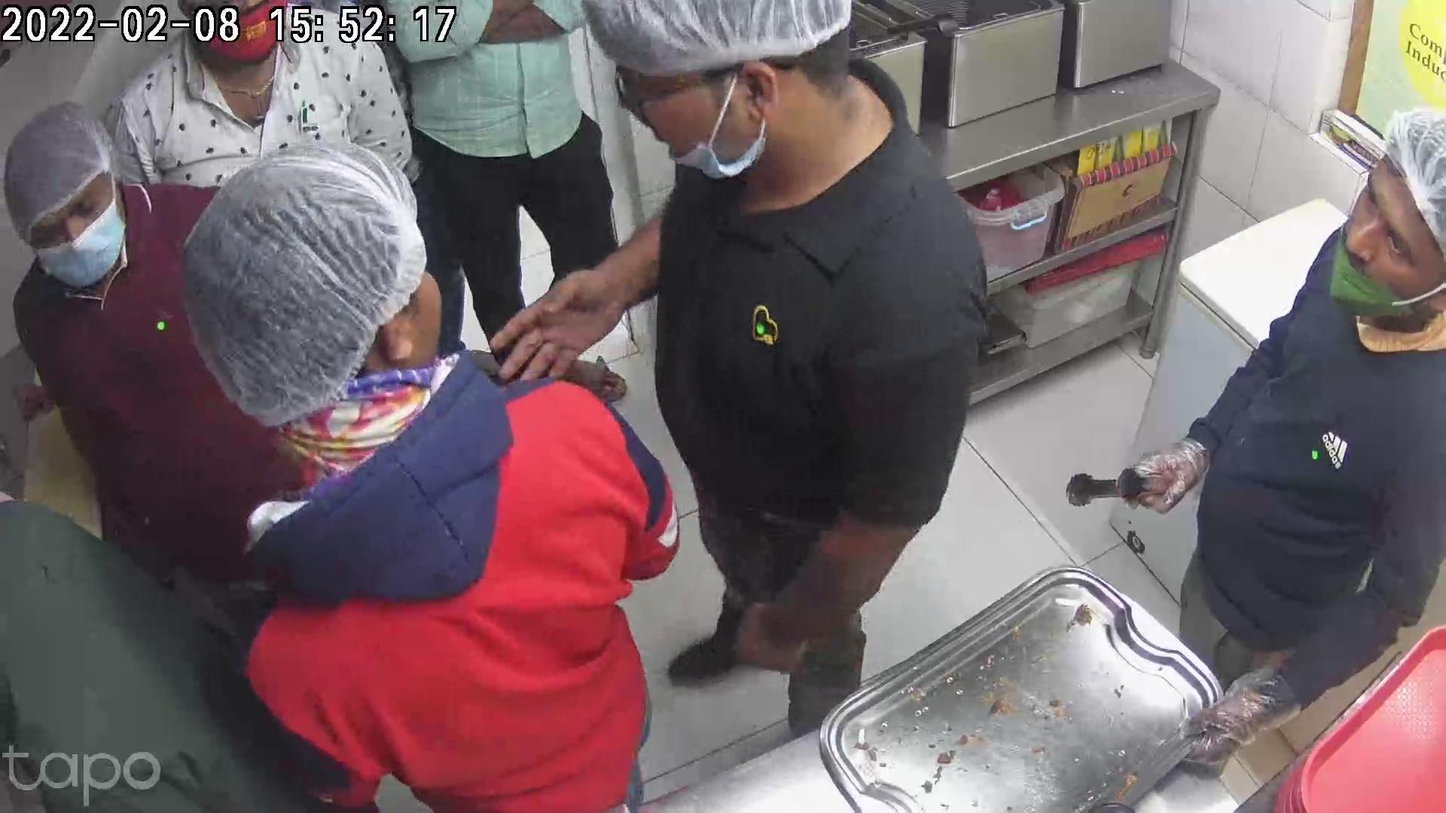no_gloves: (496, 239, 634, 378)
